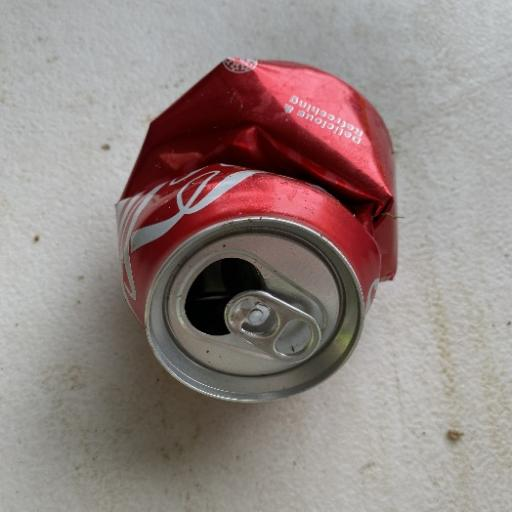Metal: (112, 54, 400, 404)
